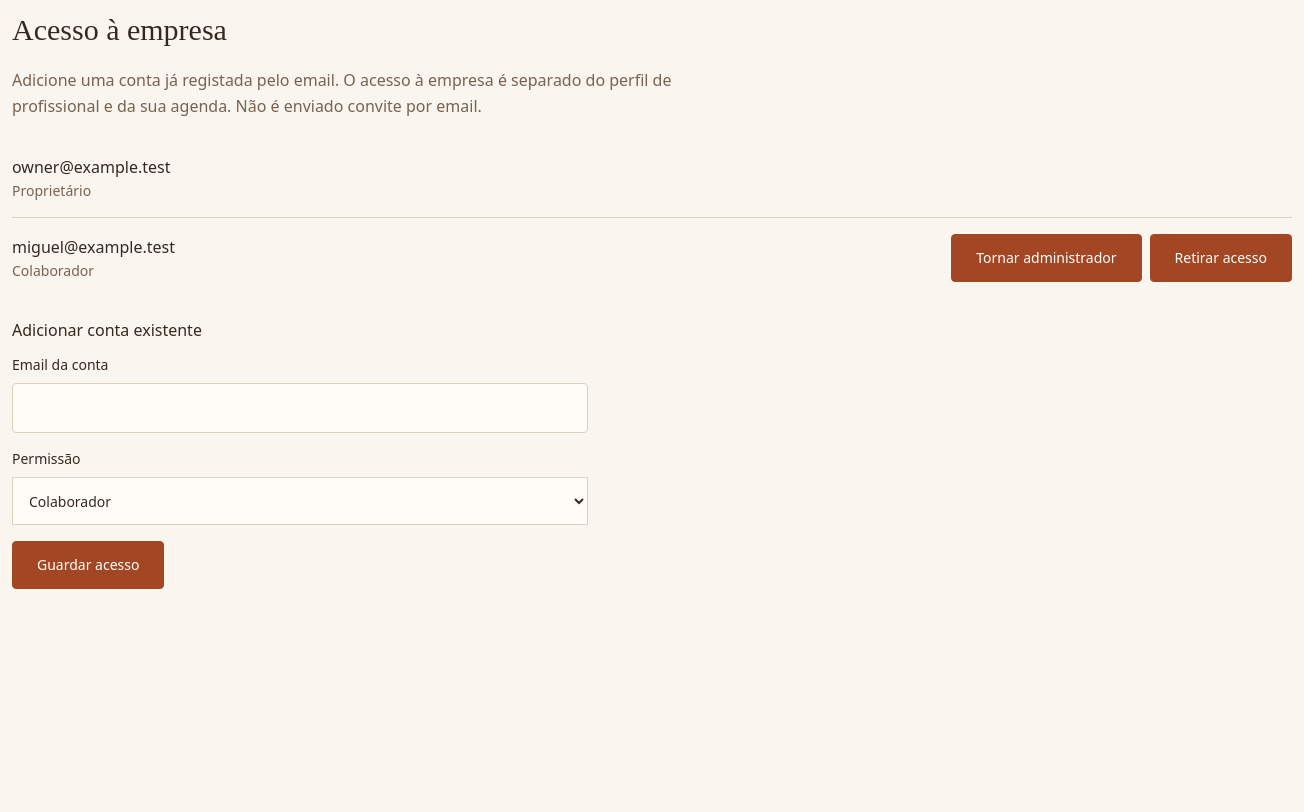
it: retirar acesso exige confirmação e permite cancelar
The image size is (1304, 812).
Click the button "Retirar acesso".
click(1221, 258)  # box left=1150, top=234, right=1292, bottom=282
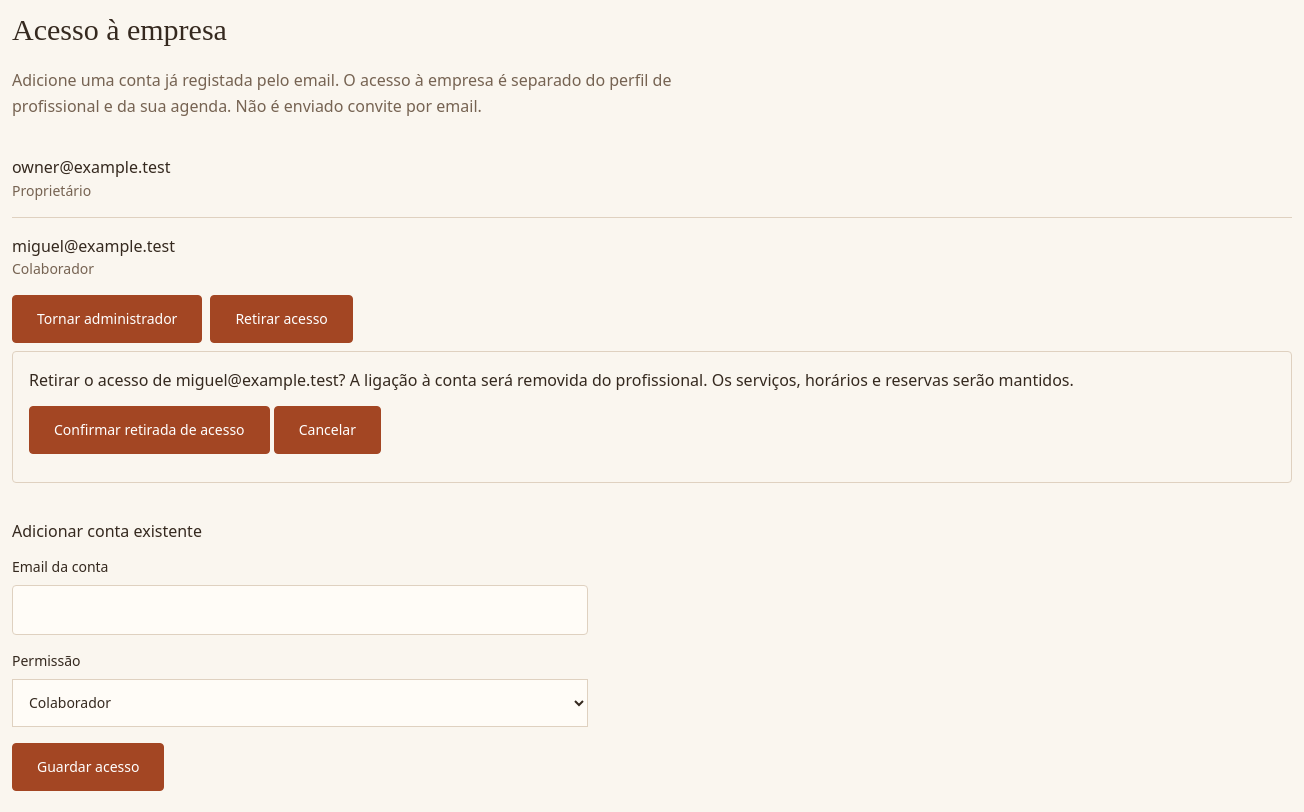
Click the button "Cancelar".
click(327, 430)  # box left=274, top=406, right=381, bottom=454
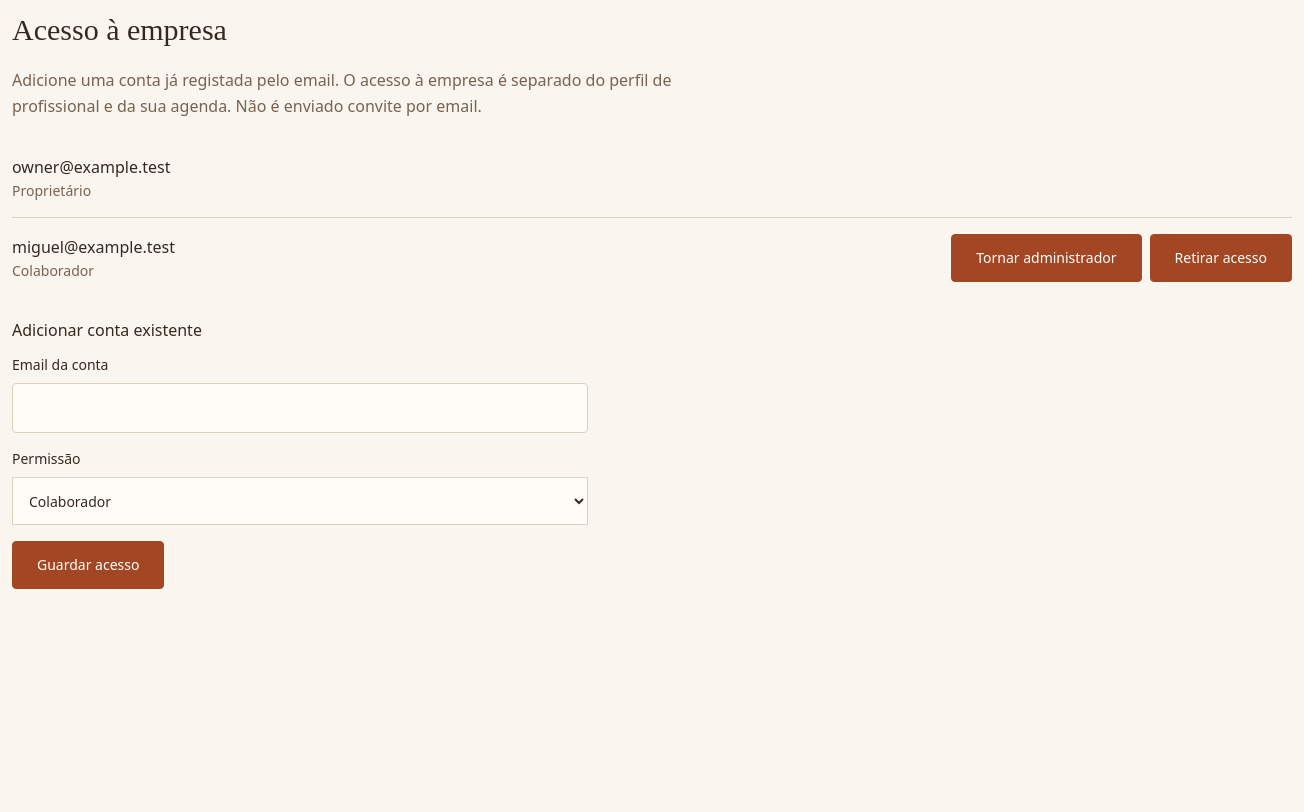
Result: the button "Confirmar retirada de acesso" is gone
Click the button "Retirar acesso".
click(1221, 258)  # box left=1150, top=234, right=1292, bottom=282
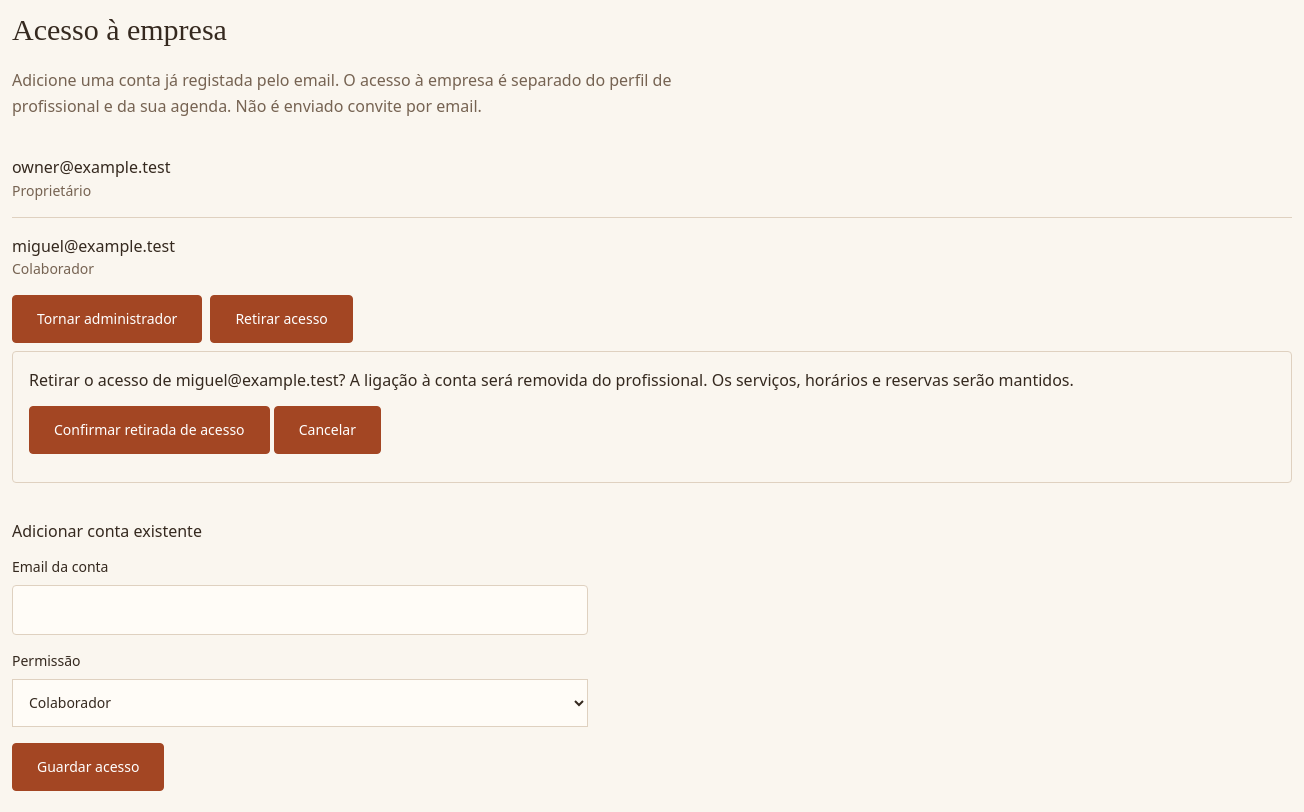
Click the button "Confirmar retirada de acesso".
click(149, 430)  # box left=29, top=406, right=270, bottom=454
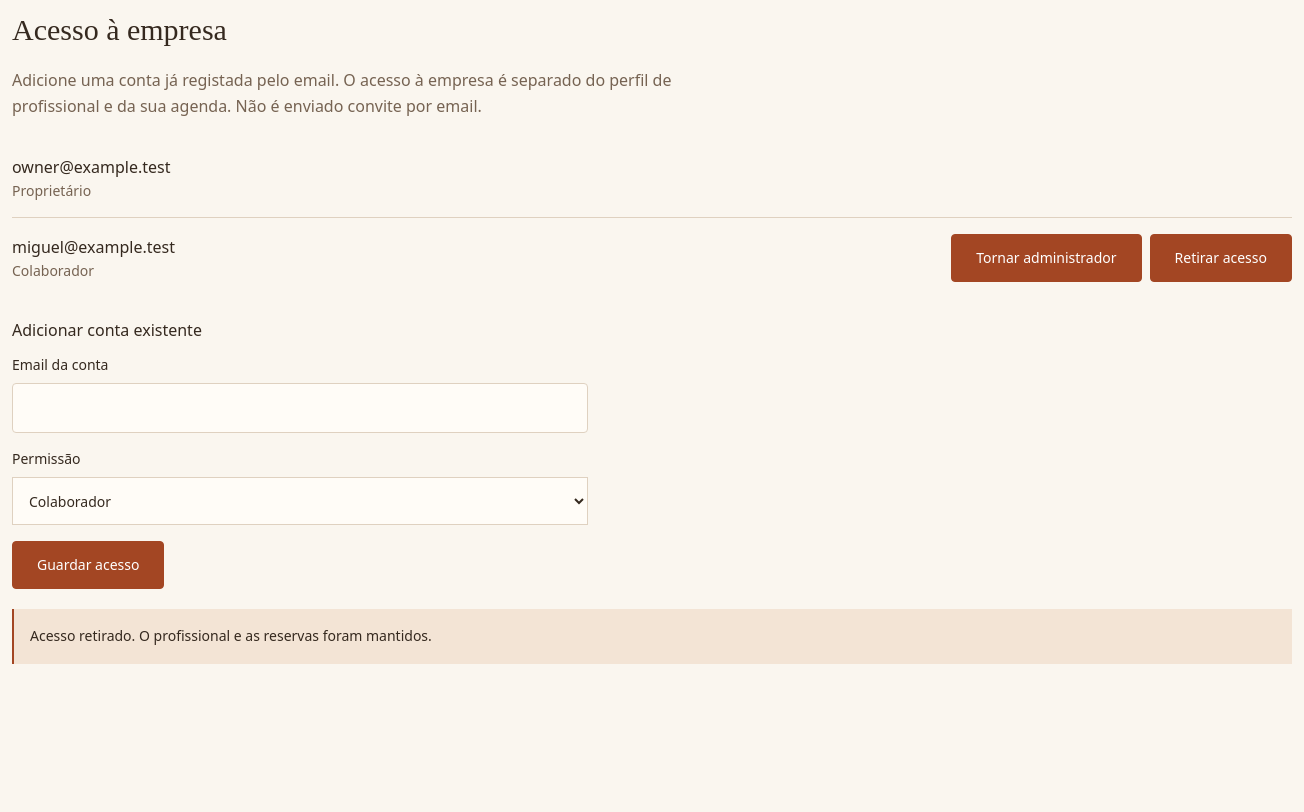
Result: the text "Acesso retirado. O profissional e as reservas foram mantidos." is shown at left=12, top=609, right=1292, bottom=664
